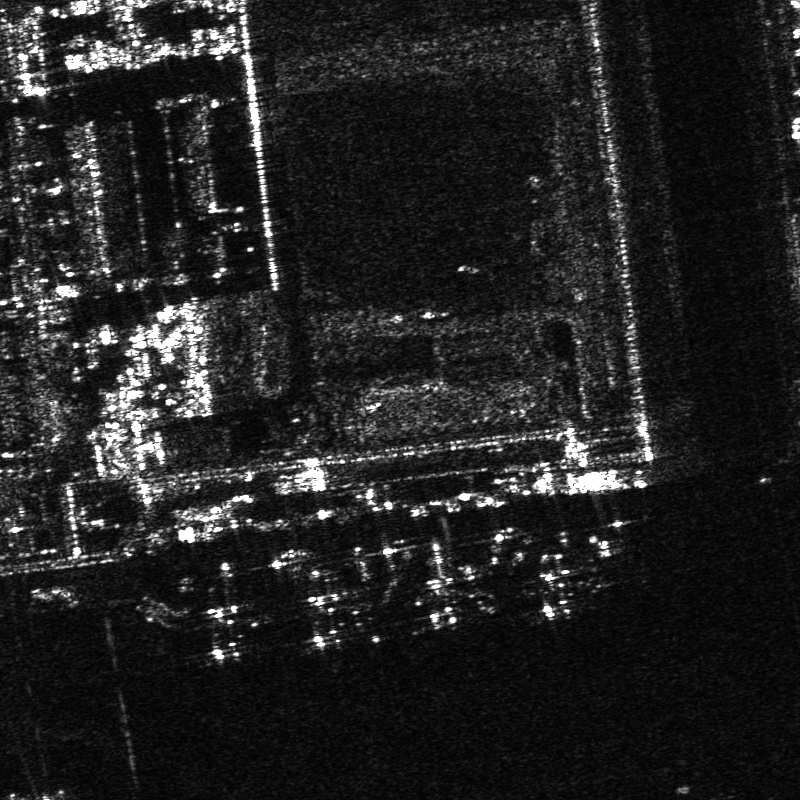Boeing787: (182, 560, 275, 664), (300, 561, 367, 647), (418, 543, 479, 629), (528, 538, 590, 621)
